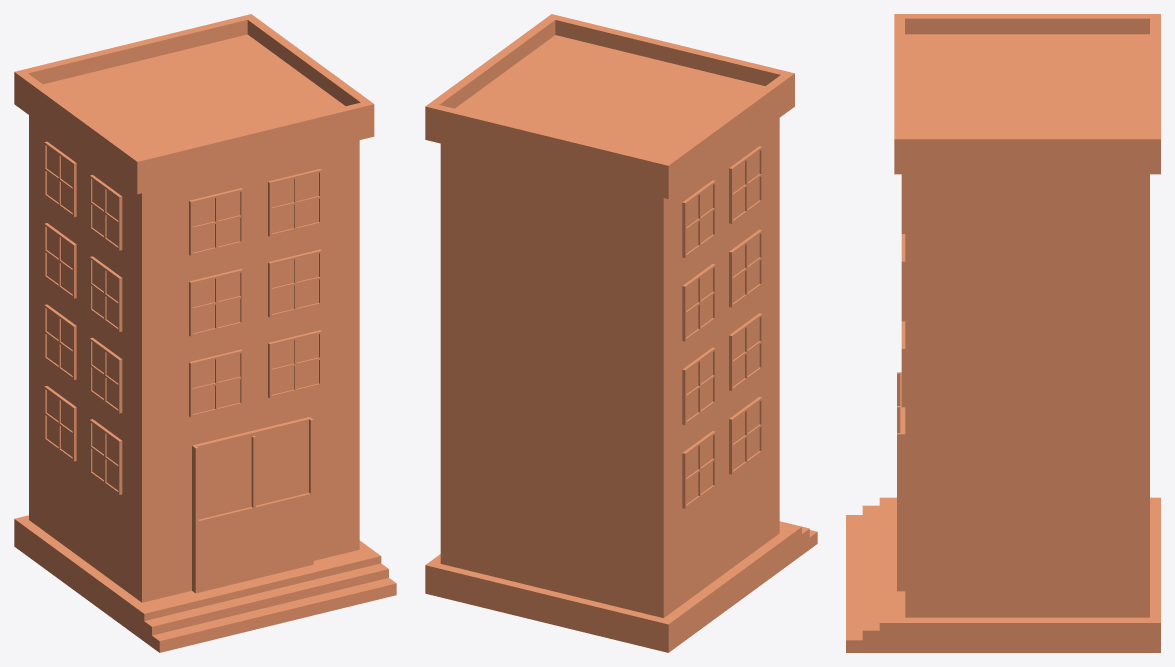
3 renders of one model, left to right at view 1: azimuth 30°, elevation 25°; view 2: azimuth 150°, elevation 25°; view 3: azimuth 270°, elevation 25°, orthographic. The views are drawn at different scales.
Parts seen in each view (by area): view 1: tower; view 2: tower; view 3: tower.
Boxes of the visible parts, x1=… form: tower: x1=14, y1=14, x2=396, y2=652; tower: x1=425, y1=14, x2=817, y2=652; tower: x1=846, y1=14, x2=1160, y2=652.
Bounding box in the file's own units: 5.22 × 10 × 5.55.
